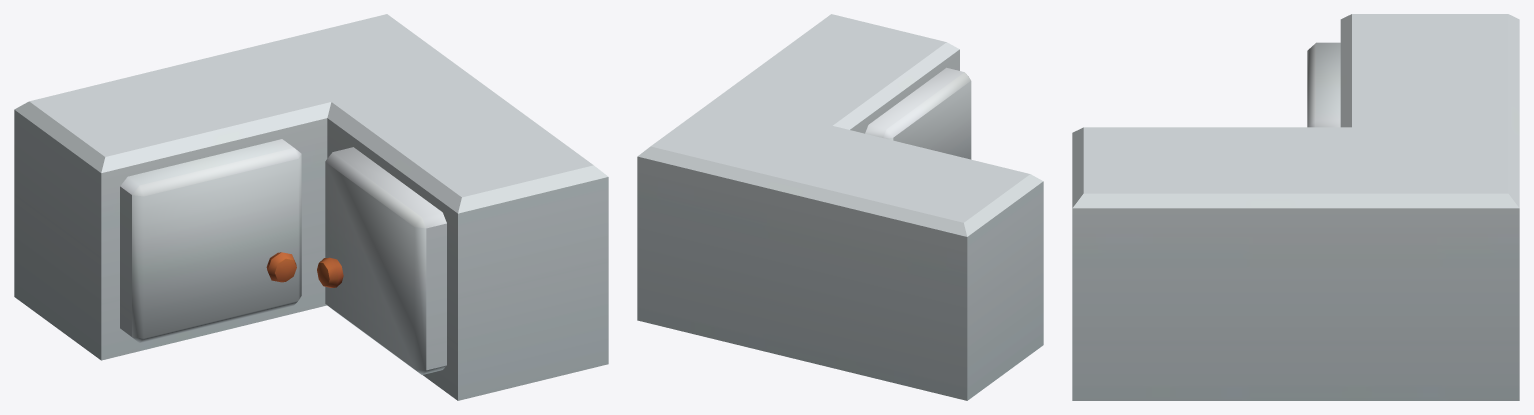
File: kitchencabinet-corner-half.glb
The picture shows the model from 3 angles, left to right: view 1: azimuth 30°, elevation 25°; view 2: azimuth 150°, elevation 25°; view 3: azimuth 270°, elevation 25°; orthographic projection. The views are drawn at different scales.
Visible parts, largest first — view 1: kitchencabinet_corner_half; view 2: kitchencabinet_corner_half; view 3: kitchencabinet_corner_half.
Boxes of the visible parts, x1,y1,x2,y2 form: kitchencabinet_corner_half: [14, 14, 608, 400]; kitchencabinet_corner_half: [637, 14, 1043, 400]; kitchencabinet_corner_half: [1072, 14, 1519, 400].
Bounding box in the file's own units: 2 × 1 × 2.
1 material, 1 textured.
